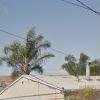Palm tree: (4, 22, 50, 80)
